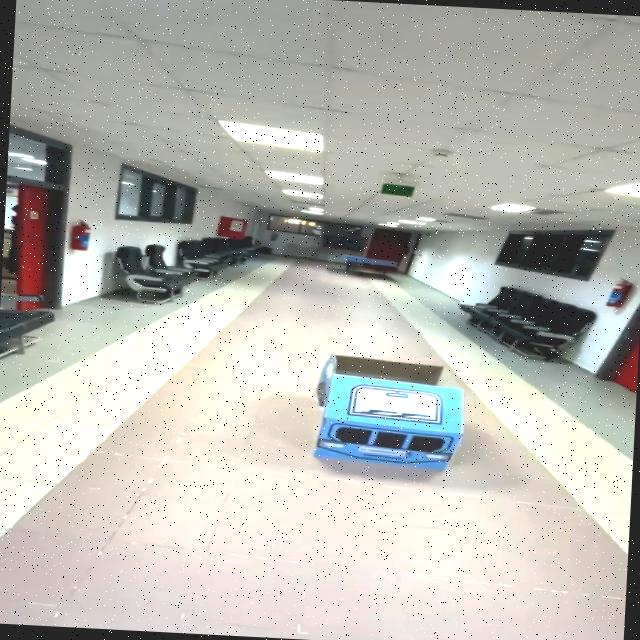blue_car: (270, 332, 516, 486)
